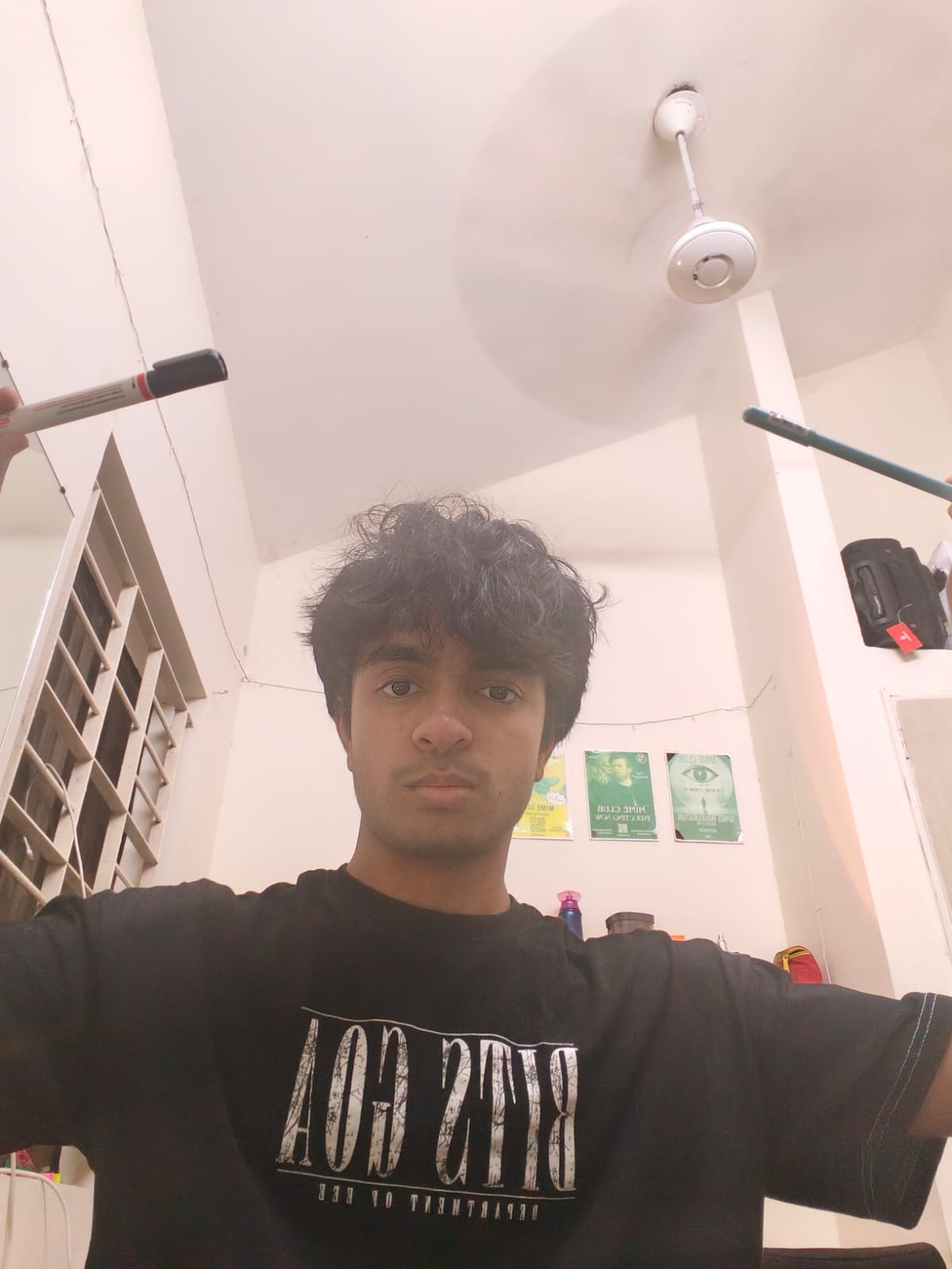case: (11, 346, 235, 434)
pen: (731, 392, 947, 537)
